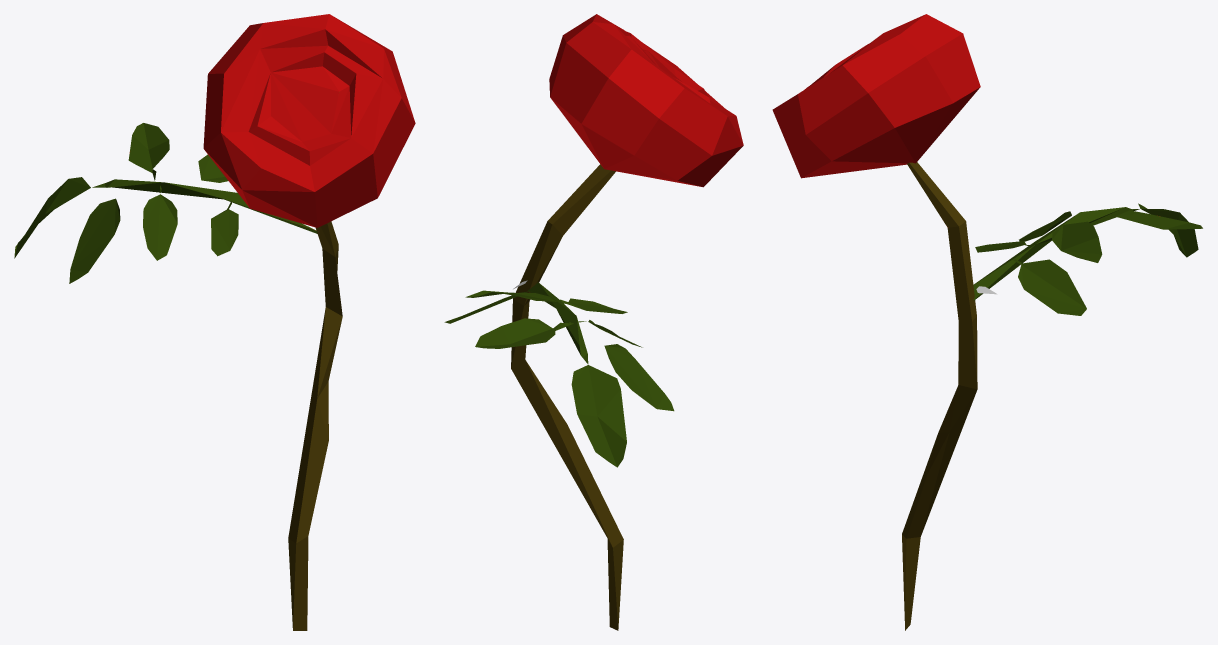
File: rose.glb
3 renders of one model, left to right at view 1: azimuth 30°, elevation 25°; view 2: azimuth 150°, elevation 25°; view 3: azimuth 270°, elevation 25°, orthographic. The views are drawn at different scales.
Parts seen in each view (by area): view 1: Plane.006; view 2: Plane.006; view 3: Plane.006.
Boxes of the visible parts, box(x1,y1,x2,y2) form: Plane.006: box(14, 14, 415, 630); Plane.006: box(444, 14, 743, 630); Plane.006: box(772, 14, 1202, 630).
Bounding box in the file's own units: 0.1254 × 0.3139 × 0.2022.
1 material, 1 textured.
